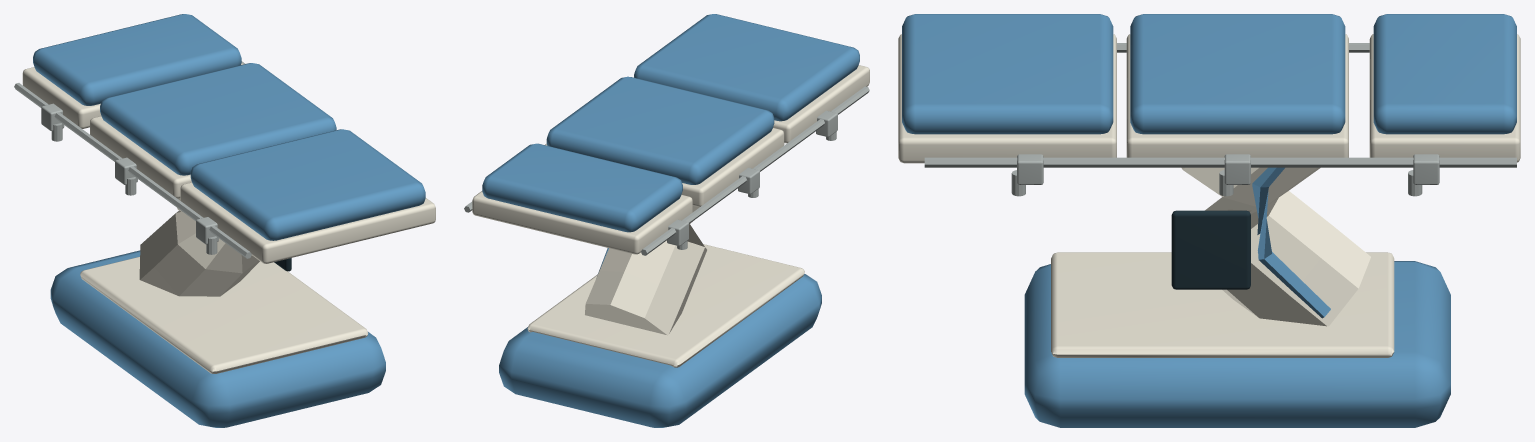
Rendered from operating_table_advanced.glb.
The picture shows the model from 3 angles, left to right: view 1: azimuth 30°, elevation 25°; view 2: azimuth 150°, elevation 25°; view 3: azimuth 270°, elevation 25°; orthographic projection. The views are drawn at different scales.
Visible parts, largest first — view 1: STATIC_operating_table_advanced, MOVING_PIVOT_table_section_0.002, MOVING_PIVOT_table_section_1.002, MOVING_PIVOT_table_section_2.002; view 2: STATIC_operating_table_advanced, MOVING_PIVOT_table_section_1.002, MOVING_PIVOT_table_section_0.002, MOVING_PIVOT_table_section_2.002; view 3: STATIC_operating_table_advanced, MOVING_PIVOT_table_section_1.002, MOVING_PIVOT_table_section_0.002, MOVING_PIVOT_table_section_2.002.
Boxes of the visible parts, x1,y1,x2,y2 form: STATIC_operating_table_advanced: (14,61,385,427); MOVING_PIVOT_table_section_0.002: (180,129,435,263); MOVING_PIVOT_table_section_1.002: (90,63,336,198); MOVING_PIVOT_table_section_2.002: (22,14,243,128); STATIC_operating_table_advanced: (464,86,869,427); MOVING_PIVOT_table_section_1.002: (545,76,784,207); MOVING_PIVOT_table_section_0.002: (634,14,869,143); MOVING_PIVOT_table_section_2.002: (472,143,692,254); STATIC_operating_table_advanced: (924,43,1516,427); MOVING_PIVOT_table_section_1.002: (1126,14,1348,157); MOVING_PIVOT_table_section_0.002: (898,14,1116,163); MOVING_PIVOT_table_section_2.002: (1369,14,1520,162).
Bounding box in the file's own units: 0.775 × 0.945 × 1.65.
